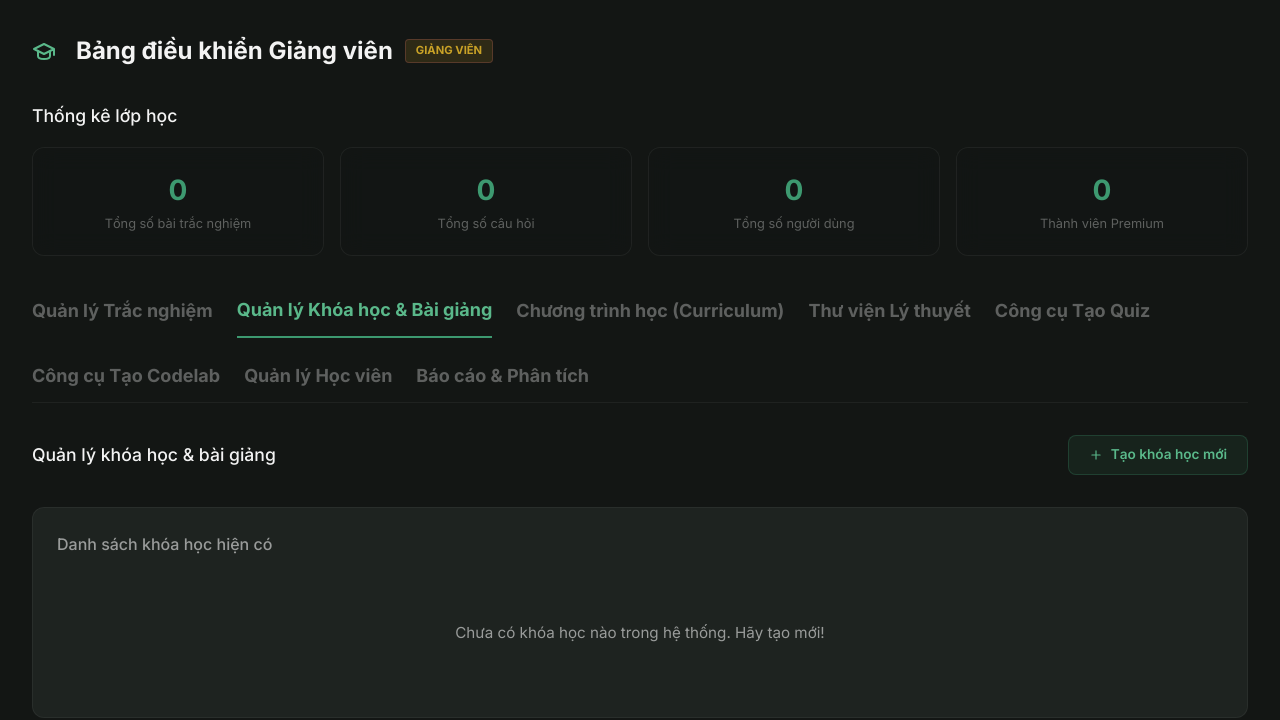
Test case: TeacherPanelView — P0 Tests › Tab Navigation › switches to students tab when clicked
Click the tab "Quản lý Học viên" at (318, 382), box [244, 362, 392, 402]
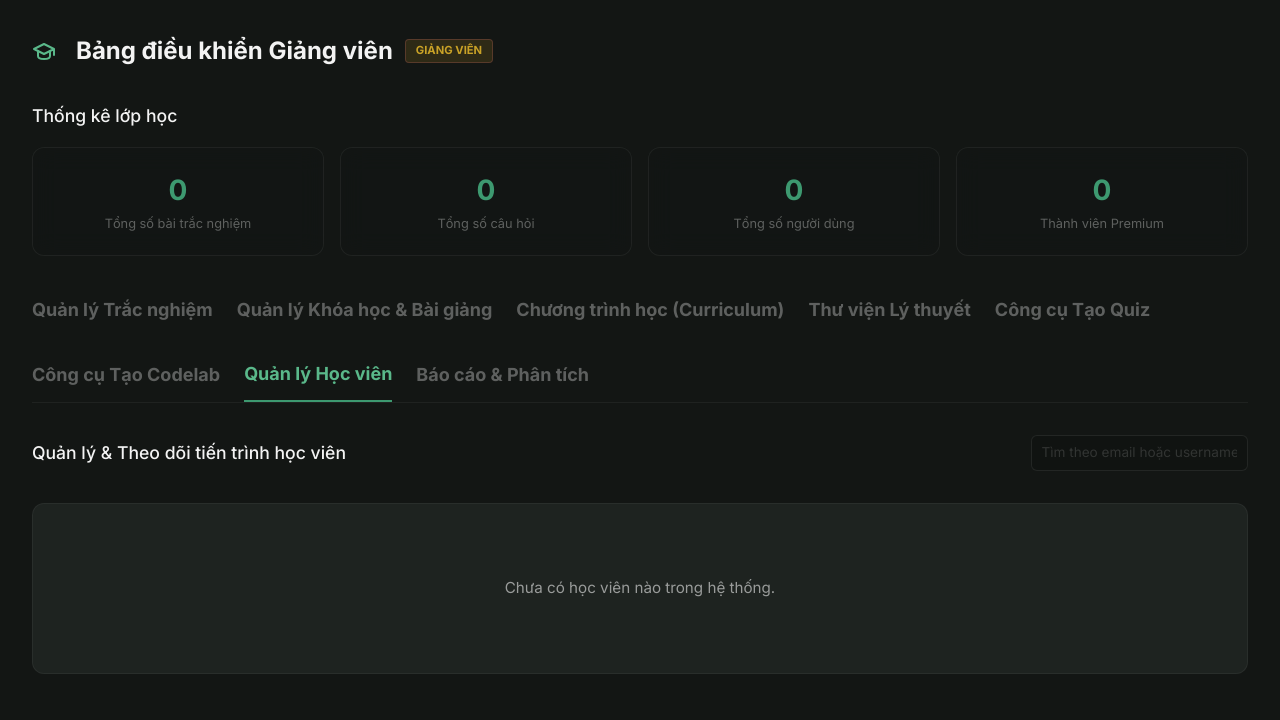
expect the text "Quản lý & Theo dõi tiến trình học viên" is shown: met, box [32, 439, 346, 467]
